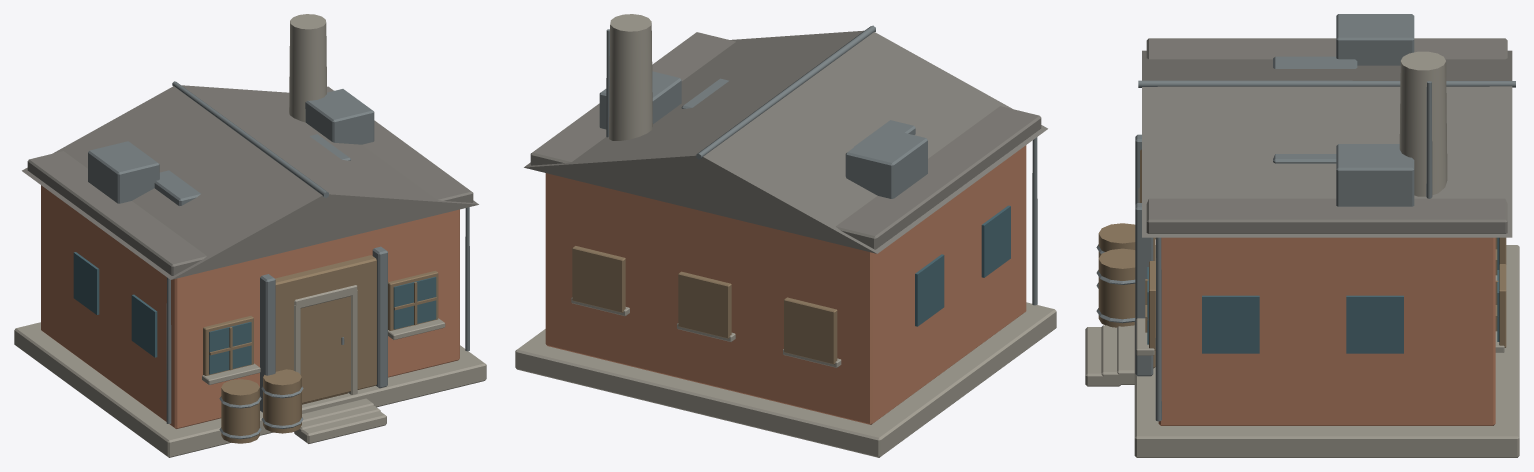
Rendered from bld_depot_a06.glb.
3 renders of one model, left to right at view 1: azimuth 30°, elevation 25°; view 2: azimuth 150°, elevation 25°; view 3: azimuth 270°, elevation 25°, orthographic. The views are drawn at different scales.
Visible parts, largest first — view 1: bld_depot_a06; view 2: bld_depot_a06; view 3: bld_depot_a06.
Boxes of the visible parts, box(x1,y1,x2,y2) form: bld_depot_a06: box(14, 14, 486, 457); bld_depot_a06: box(515, 14, 1056, 457); bld_depot_a06: box(1085, 14, 1519, 457).
Bounding box in the file's own units: 3.8 × 3.31 × 3.61.
